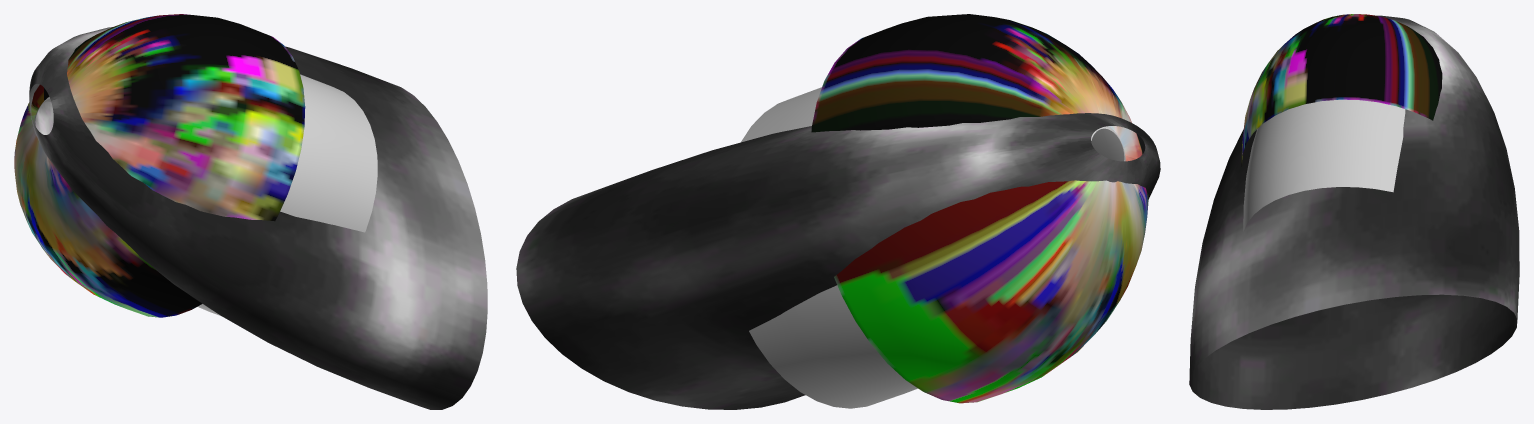
File: fx_cookie0001_skill02_loop.fbx
The picture shows the model from 3 angles, left to right: view 1: azimuth 30°, elevation 25°; view 2: azimuth 150°, elevation 25°; view 3: azimuth 270°, elevation 25°; orthographic projection. The views are drawn at different scales.
Parts seen in each view (by area): view 1: dash, mesh_01 (1), mesh_01 (2); view 2: dash, mesh_01 (1), mesh_01 (2); view 3: dash, mesh_01 (1), mesh_01 (2).
Part boxes in pixels (left/top/right/bottom): dash: left=29, top=27, right=487, bottom=409; mesh_01 (1): left=14, top=14, right=305, bottom=317; mesh_01 (2): left=34, top=74, right=377, bottom=316; dash: left=516, top=113, right=1160, bottom=409; mesh_01 (1): left=811, top=14, right=1148, bottom=403; mesh_01 (2): left=740, top=87, right=1125, bottom=408; dash: left=1189, top=15, right=1519, bottom=409; mesh_01 (1): left=1241, top=14, right=1442, bottom=166; mesh_01 (2): left=1243, top=99, right=1405, bottom=231.
Size of the model in its own units: 570 by 476 by 460.
